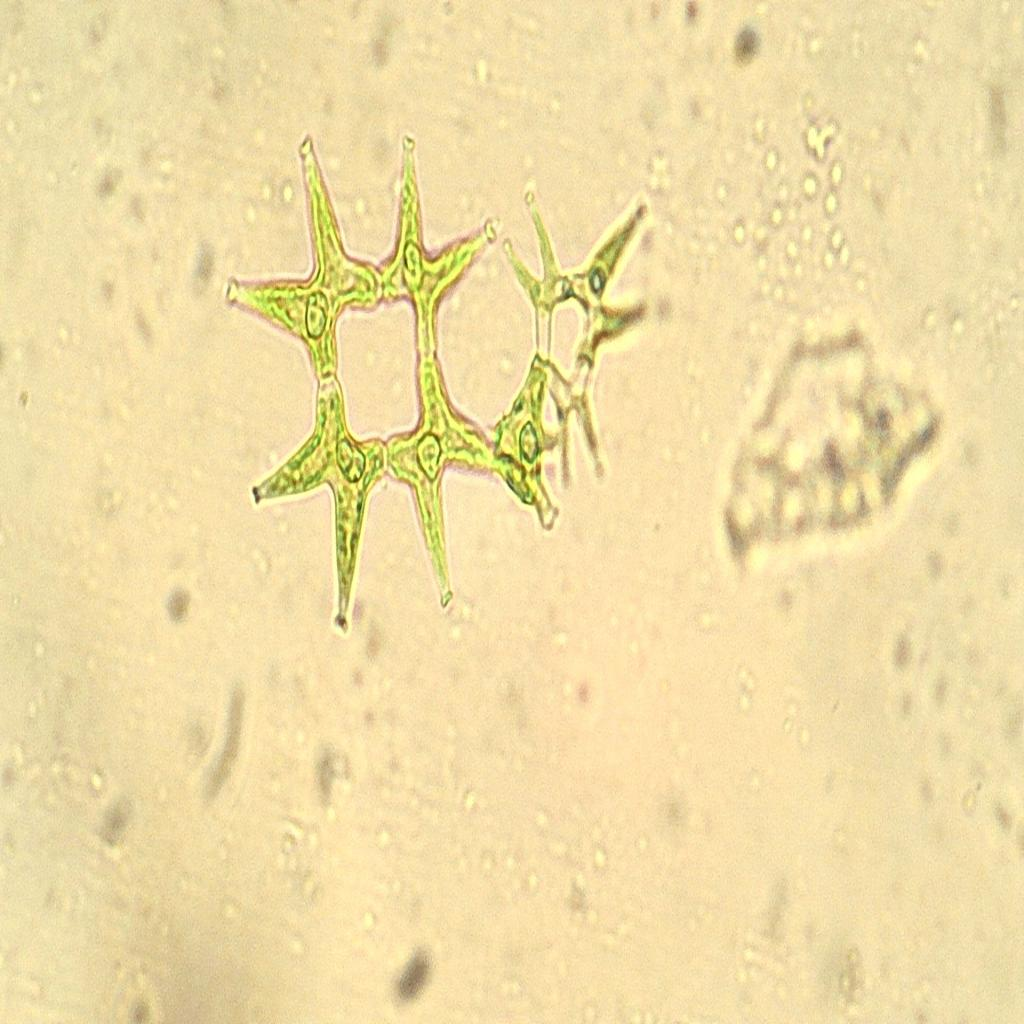Pediastrum_CO: (224, 117, 520, 640)
